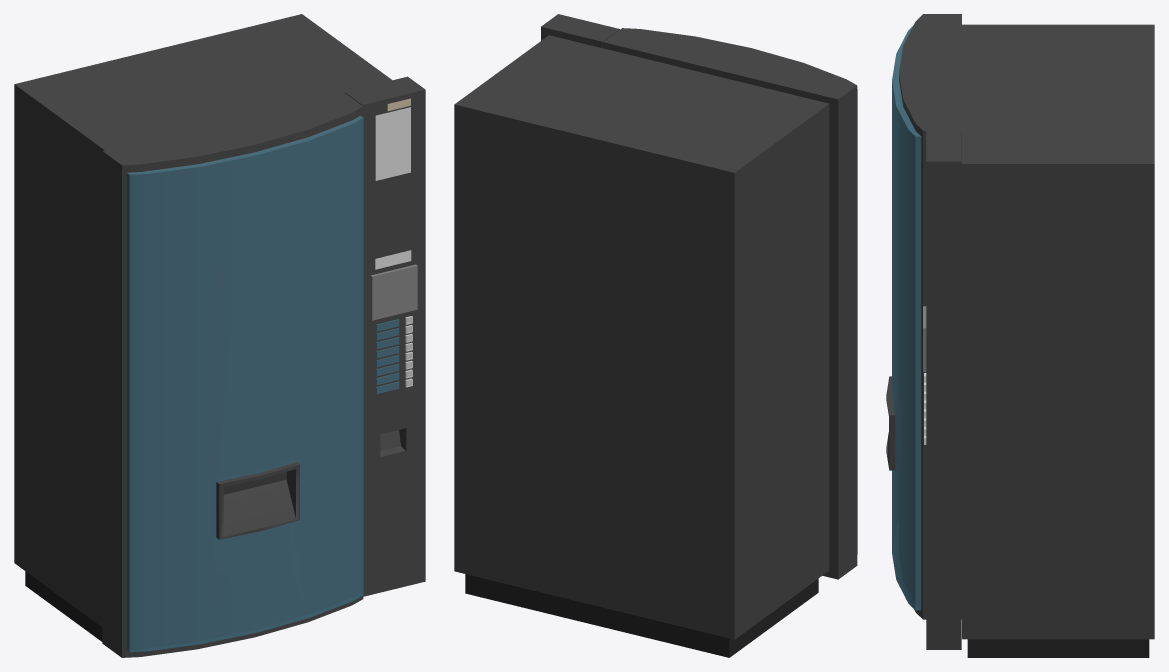
File: lounge_vending.fbx
3 renders of one model, left to right at view 1: azimuth 30°, elevation 25°; view 2: azimuth 150°, elevation 25°; view 3: azimuth 270°, elevation 25°, orthographic. The views are drawn at different scales.
Parts seen in each view (by area): view 1: Lounge_Vending; view 2: Lounge_Vending; view 3: Lounge_Vending.
Boxes of the visible parts, x1,y1,x2,y2 form: Lounge_Vending: (14, 14, 425, 657); Lounge_Vending: (454, 14, 857, 657); Lounge_Vending: (886, 14, 1154, 657).
Size of the model in its own units: 8.93 by 14.21 by 6.86.
